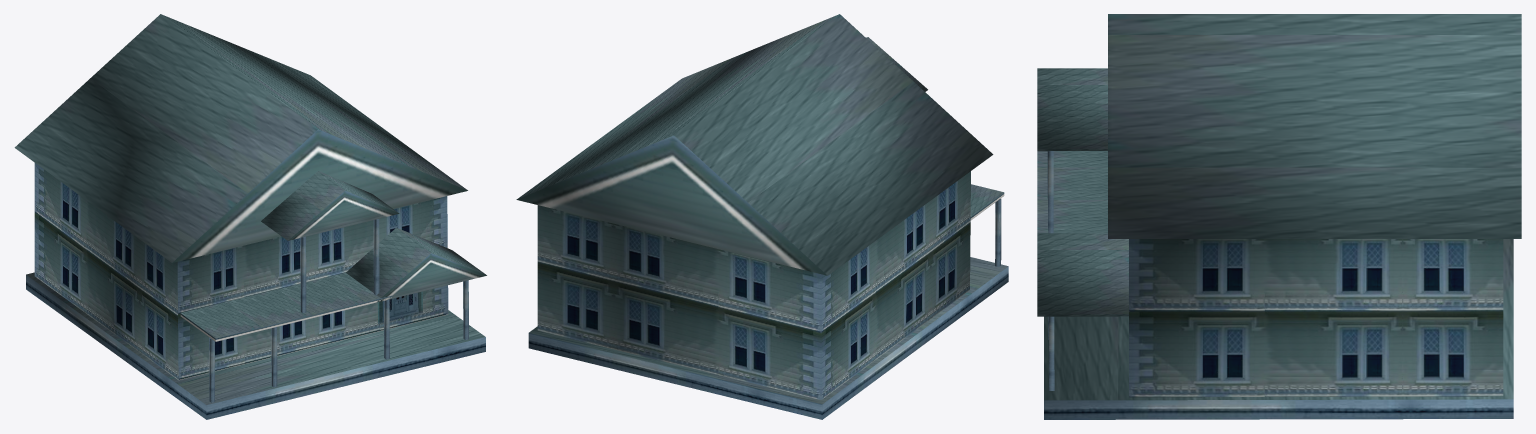
The model's file is cottage.dae.
The picture shows the model from 3 angles, left to right: view 1: azimuth 30°, elevation 25°; view 2: azimuth 150°, elevation 25°; view 3: azimuth 270°, elevation 25°; orthographic projection. The views are drawn at different scales.
Parts seen in each view (by area): view 1: cottage; view 2: cottage; view 3: cottage.
Part boxes in pixels (x1,y1,x2,y2): cottage: (14,14,486,419); cottage: (516,14,1008,419); cottage: (1037,14,1521,419).
Size of the model in its own units: 24.11 by 18.61 by 26.01.
1 material, 1 textured.
